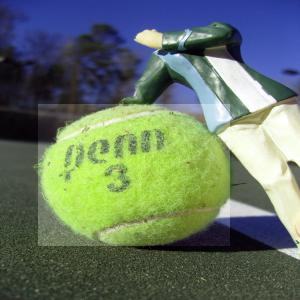TennisBall: (39, 105, 232, 248)
